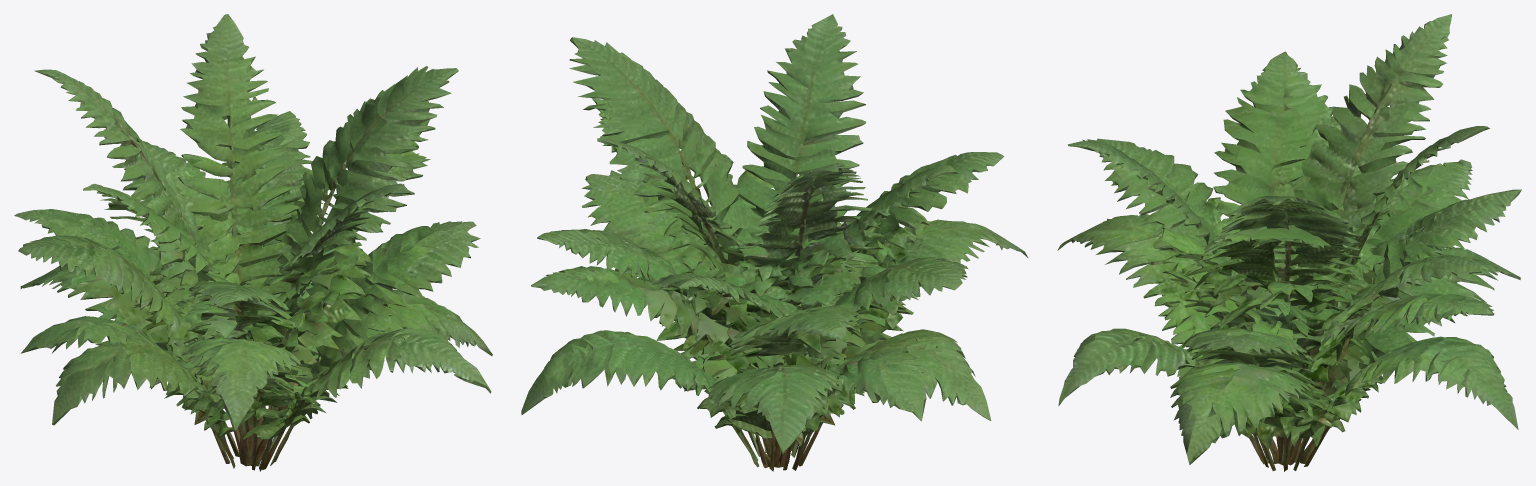
Rendered from creek-fern.glb.
3 renders of one model, left to right at view 1: azimuth 30°, elevation 25°; view 2: azimuth 150°, elevation 25°; view 3: azimuth 270°, elevation 25°, orthographic. The views are drawn at different scales.
Parts seen in each view (by area): view 1: geometry_0; view 2: geometry_0; view 3: geometry_0.
Boxes of the visible parts, bbox=[...] form: geometry_0: bbox=[14, 14, 492, 471]; geometry_0: bbox=[521, 14, 1028, 471]; geometry_0: bbox=[1057, 14, 1521, 471].
Size of the model in its own units: 1.14 by 0.9969 by 1.11.
Materials: 1 (1 with a texture image).
